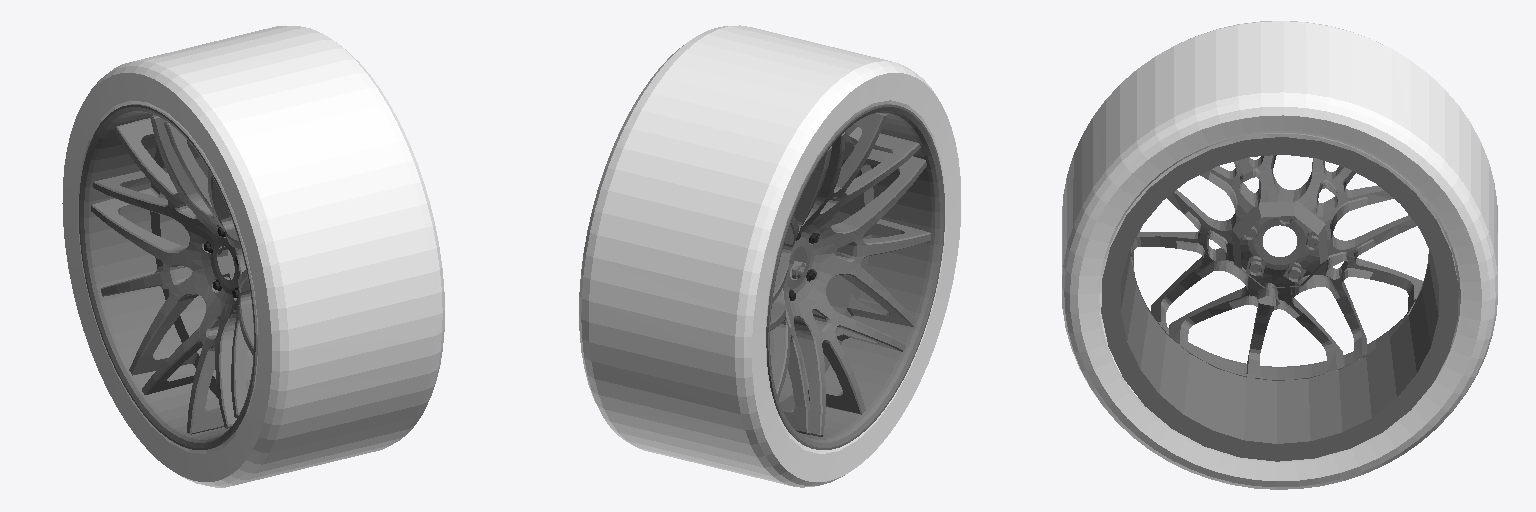
The model's file is LlantaIzqBack.obj.
The picture shows the model from 3 angles: view 1: azimuth 30°, elevation 25°; view 2: azimuth 150°, elevation 25°; view 3: azimuth 270°, elevation 25°; orthographic projection.
Parts seen in each view (by area): view 1: wheel_lb_pivot; view 2: wheel_lb_pivot; view 3: wheel_lb_pivot.
Part boxes in pixels (x1,y1,x2,y2): wheel_lb_pivot: (62,26,444,487); wheel_lb_pivot: (579,25,960,487); wheel_lb_pivot: (1062,21,1497,489).
Size of the model in its own units: 2.46 by 5.24 by 5.24.